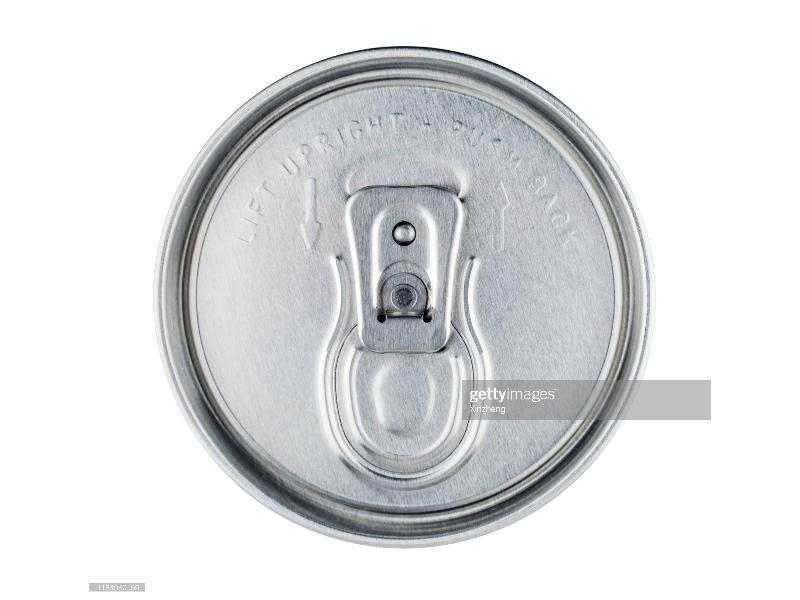can: (147, 38, 660, 556)
